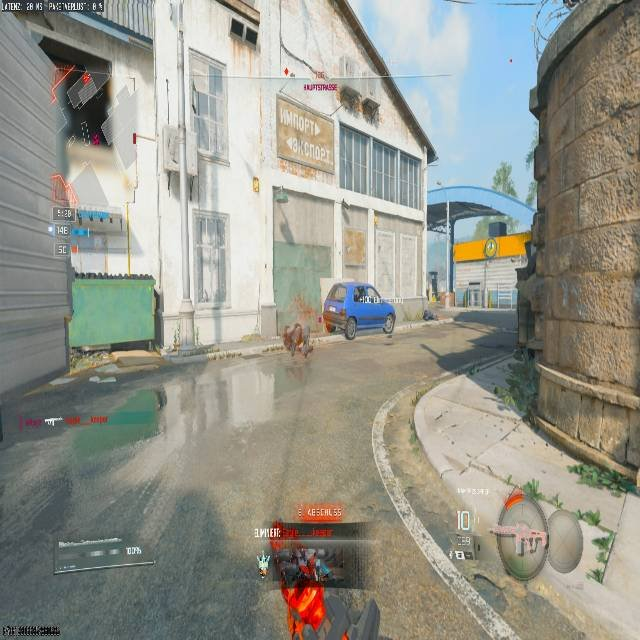player: (281, 321, 313, 380)
